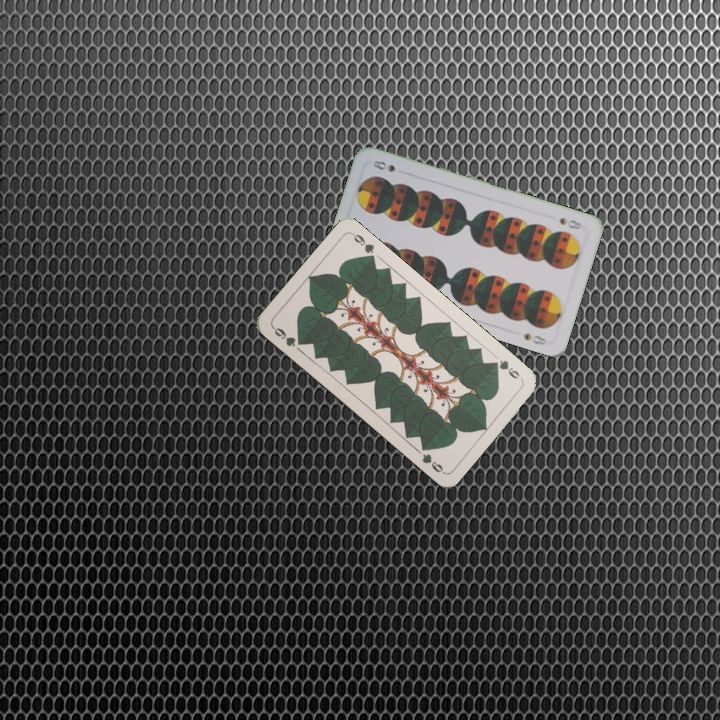G9: (268, 323, 307, 350), (488, 355, 525, 382)
S8: (555, 213, 584, 232)
